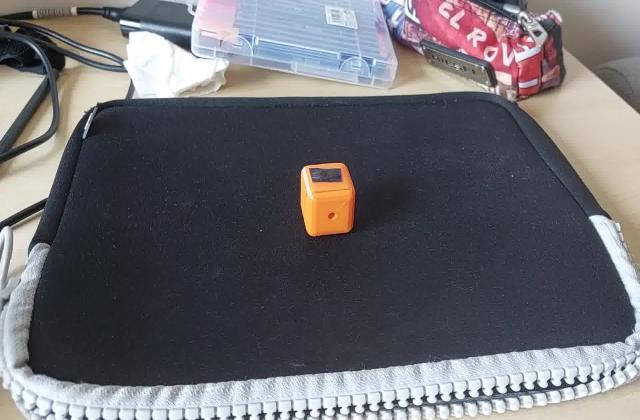black: (306, 166, 345, 188)
cube: (296, 160, 356, 238)
